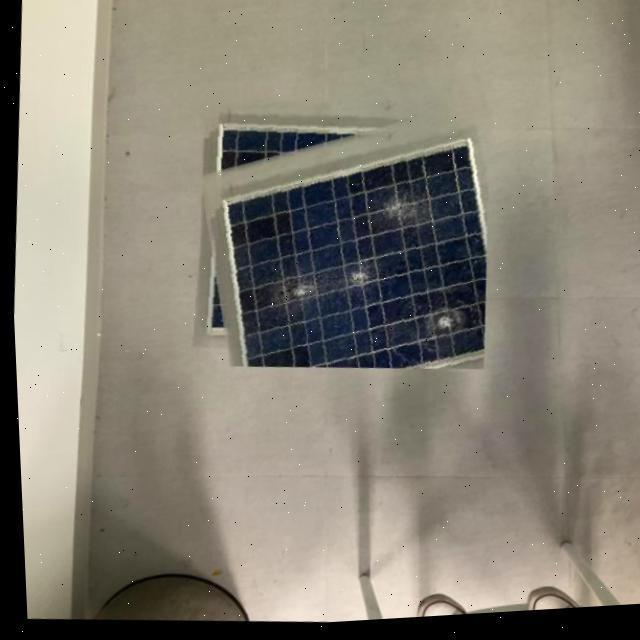Anomaly Solar Panel: (191, 140, 484, 375)
Structural Damage: (253, 187, 468, 355)
